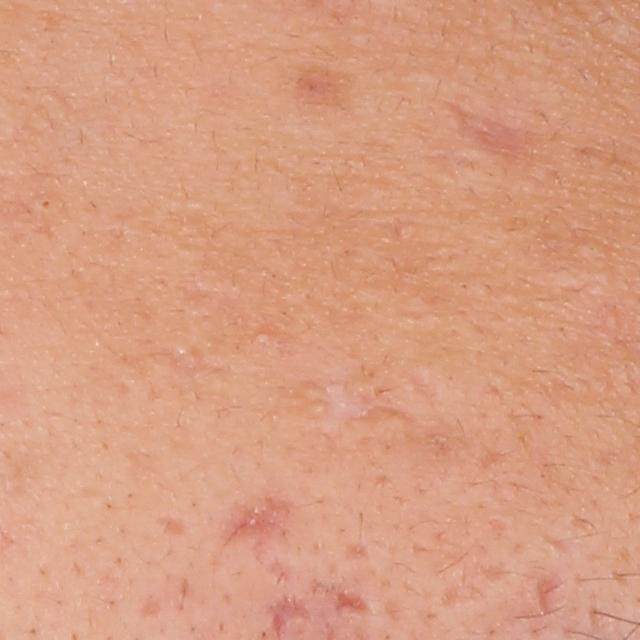atrophic_scar: (452, 108, 557, 172), (215, 493, 300, 551), (531, 572, 571, 618), (334, 588, 374, 617), (153, 515, 194, 535), (139, 593, 164, 618)
comedo: (254, 326, 276, 345), (36, 197, 54, 210)
